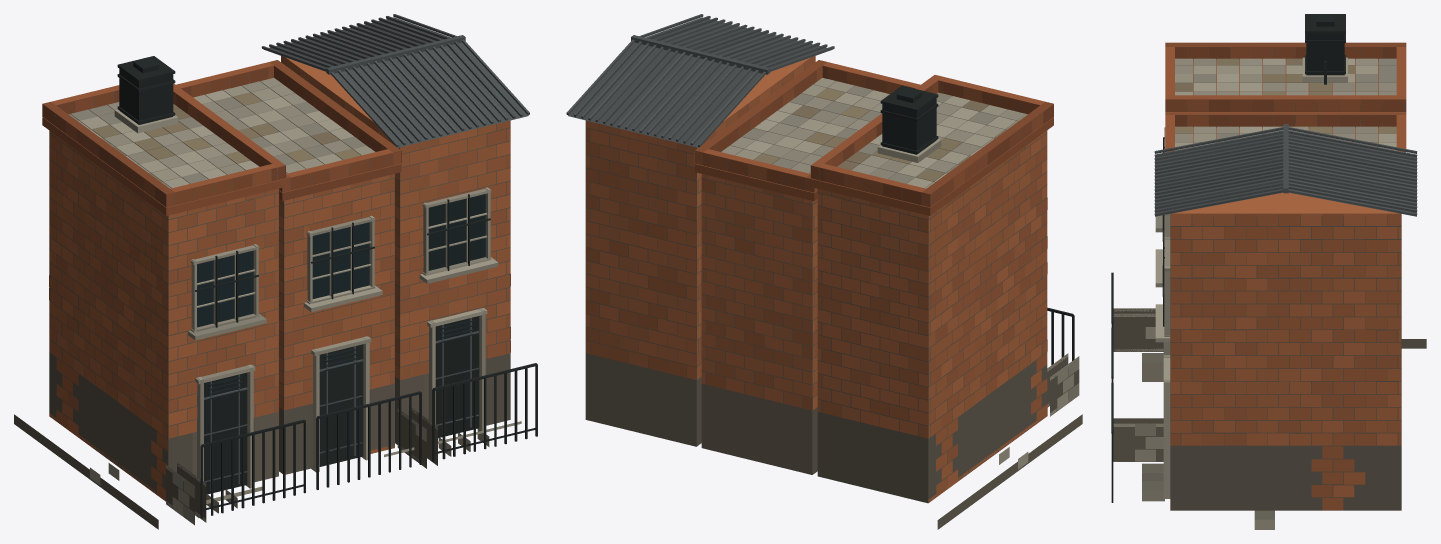
The model's file is SM_StreetFrontage_105.fbx.
3 views of the same model, side by side, from view 1: azimuth 30°, elevation 25°; view 2: azimuth 150°, elevation 25°; view 3: azimuth 270°, elevation 25° (orthographic). The views are drawn at different scales.
Visible parts, largest first — view 1: SM_StreetFrontage_105; view 2: SM_StreetFrontage_105; view 3: SM_StreetFrontage_105.
Boxes of the visible parts, x1,y1,x2,y2 form: SM_StreetFrontage_105: [14, 14, 537, 529]; SM_StreetFrontage_105: [566, 14, 1082, 529]; SM_StreetFrontage_105: [1111, 14, 1426, 529].
Bounding box in the file's own units: 7.94 × 5.69 × 7.34.
